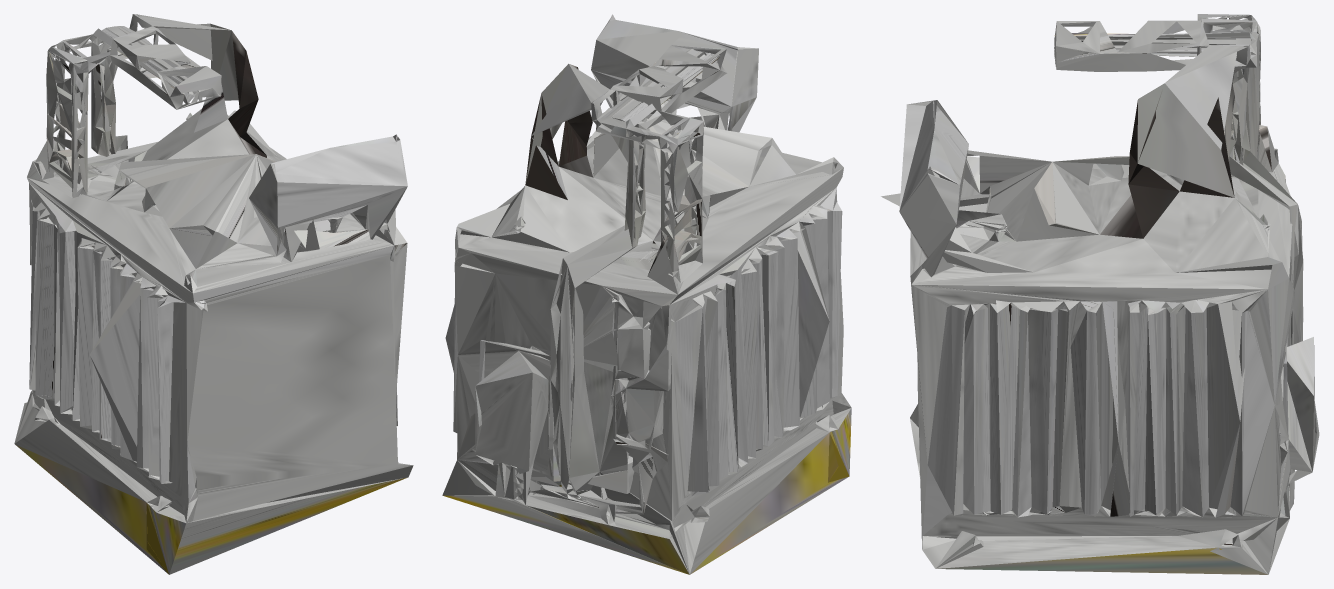
3 renders of one model, left to right at view 1: azimuth 30°, elevation 25°; view 2: azimuth 150°, elevation 25°; view 3: azimuth 270°, elevation 25°, orthographic. The views are drawn at different scales.
Parts seen in each view (by area): view 1: k07; view 2: k07; view 3: k07.
Boxes of the visible parts, left/top/right/bottom form: k07: left=14, top=14, right=413, bottom=574; k07: left=442, top=14, right=851, bottom=574; k07: left=881, top=14, right=1319, bottom=574.
Size of the model in its own units: 11.4 by 15.94 by 12.85.
1 material, 1 textured.
